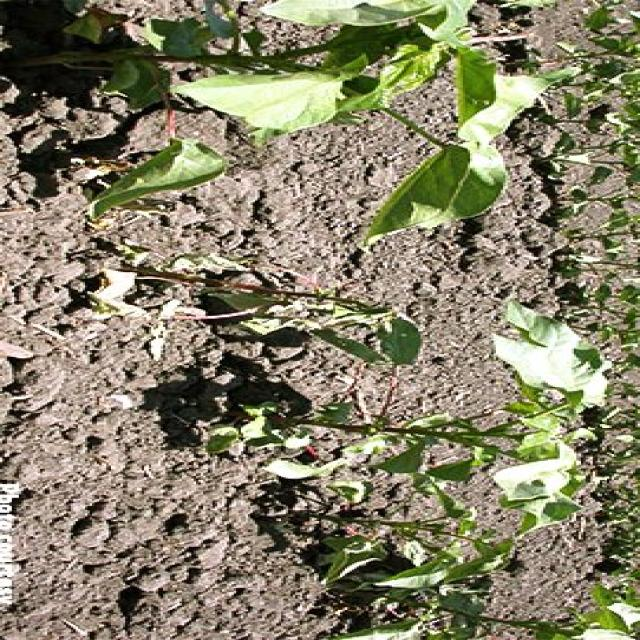Fusarium Wilt: (58, 5, 640, 640)
